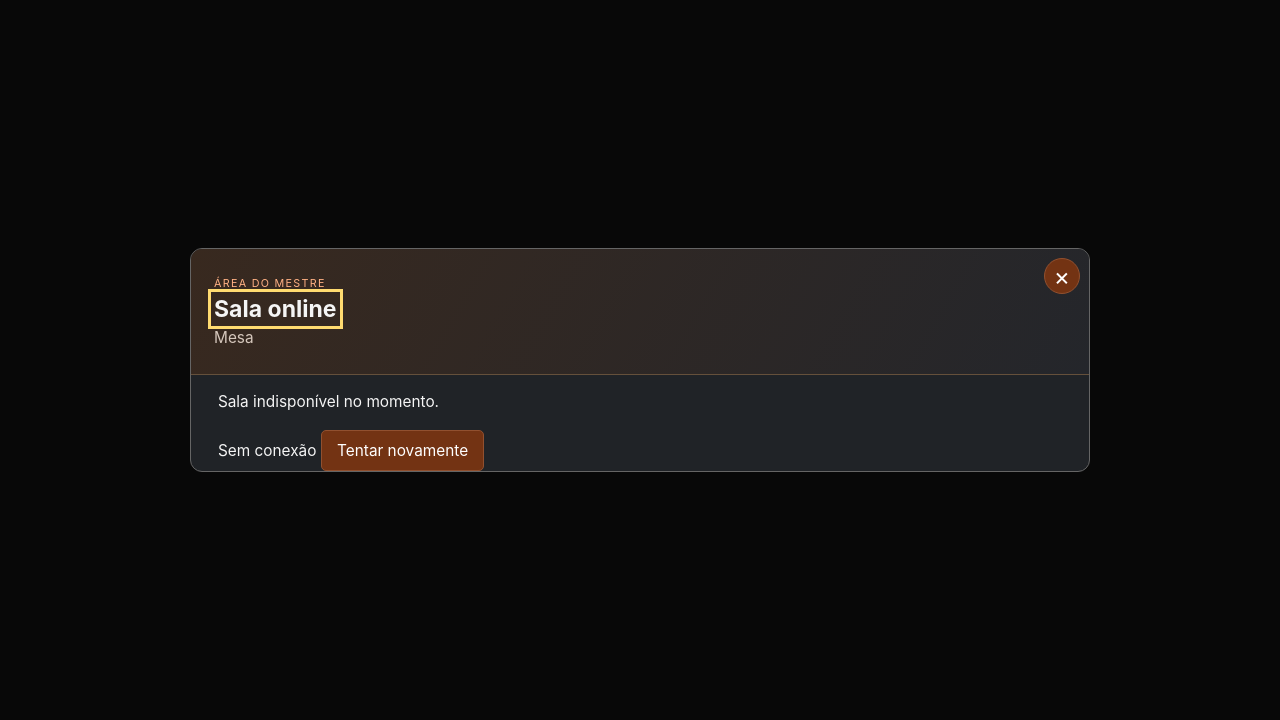
Test: falha mostra nova tentativa e recupera o convite
Expected: the text "Sem conexão" is shown, [218,441,316,460]
Step 1. Click the button "Tentar novamente" → (403, 451), box [321,430,484,471]
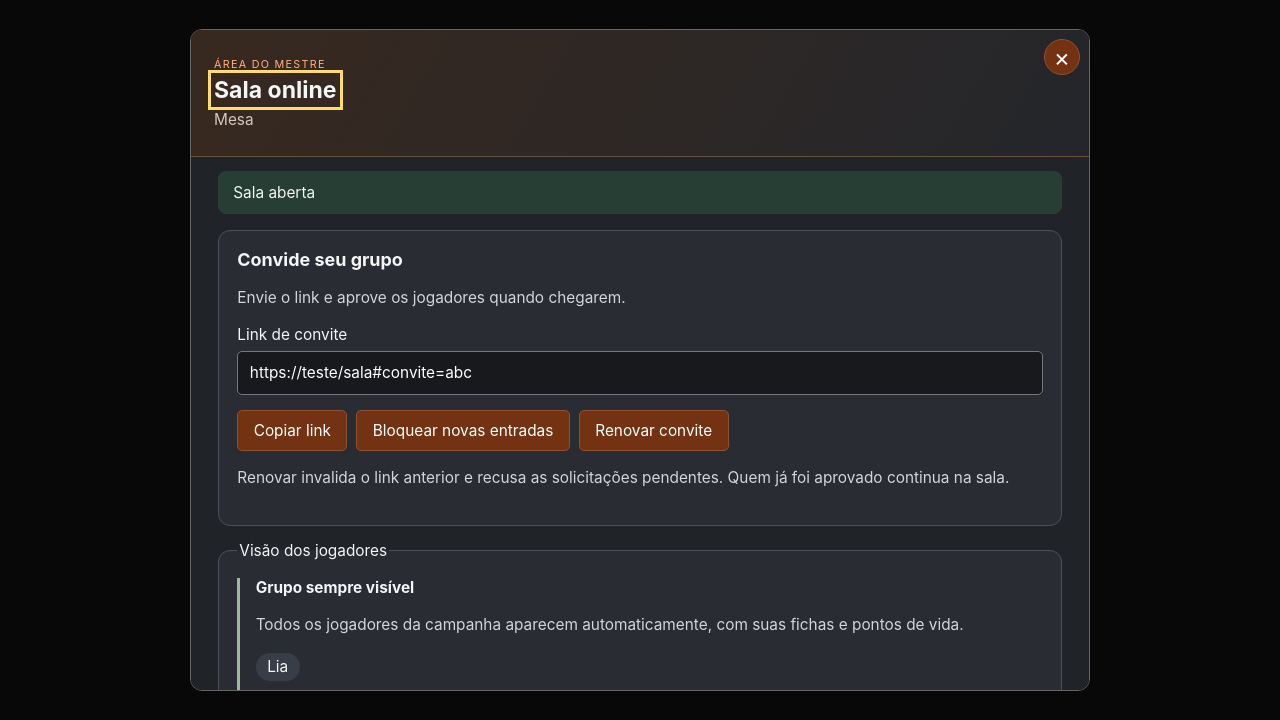
Expected: the field labelled "Link de convite" is shown, [237,351,1043,395]
Expected: the message "Sem conexão Tentar novamente" is gone
